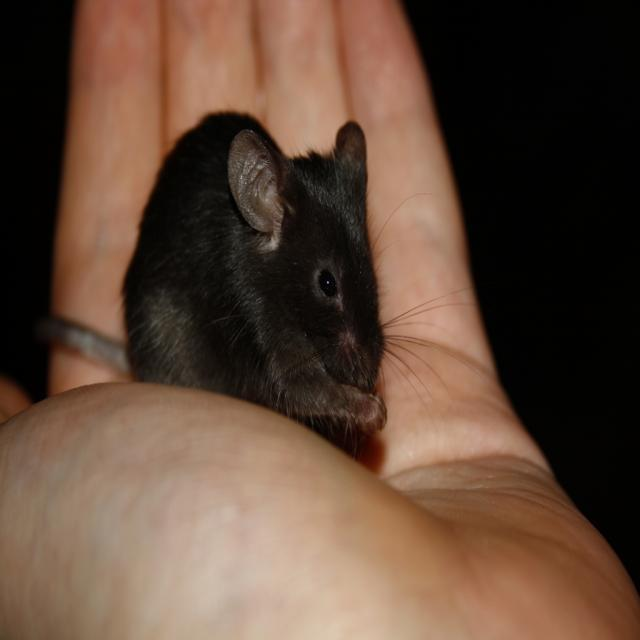rat: (38, 112, 386, 454)
